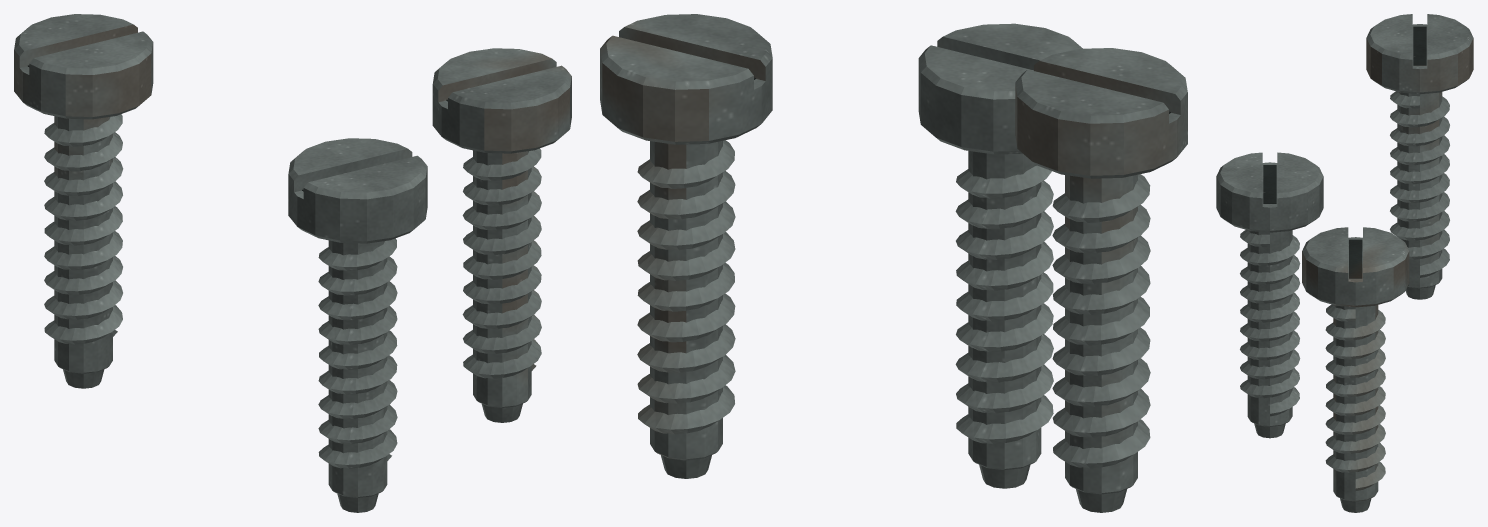
File: Screws.fbx
3 views of the same model, side by side, from view 1: azimuth 30°, elevation 25°; view 2: azimuth 150°, elevation 25°; view 3: azimuth 270°, elevation 25° (orthographic). The views are drawn at different scales.
Visible parts, largest first — view 1: Screws_08_Slotted screw head, Screws_13_Slotted screw head, Screws_03_Slotted screw head, Screws_12_Nine-turn helical thread, Screws_07_Nine-turn helical thread, Screws_02_Nine-turn helical thread, Screws_05_Screw core, Screws_00_Screw core, Screws_10_Screw core; view 2: Screws_13_Slotted screw head, Screws_03_Slotted screw head, Screws_12_Nine-turn helical thread, Screws_02_Nine-turn helical thread, Screws_07_Nine-turn helical thread, Screws_08_Slotted screw head, Screws_00_Screw core, Screws_10_Screw core, Screws_05_Screw core, Screws_06_Blunt screw tip, Screws_11_Blunt screw tip, Screws_01_Blunt screw tip; view 3: Screws_12_Nine-turn helical thread, Screws_07_Nine-turn helical thread, Screws_03_Slotted screw head, Screws_08_Slotted screw head, Screws_13_Slotted screw head, Screws_02_Nine-turn helical thread, Screws_10_Screw core, Screws_05_Screw core, Screws_00_Screw core, Screws_04_Dark bottom of slot, Screws_14_Dark bottom of slot, Screws_09_Dark bottom of slot (+3 smaller).
Part boxes in pixels (x1,y1,x2,y2): Screws_08_Slotted screw head: (288, 138, 427, 243); Screws_13_Slotted screw head: (432, 48, 571, 153); Screws_03_Slotted screw head: (14, 14, 153, 119); Screws_12_Nine-turn helical thread: (462, 148, 541, 378); Screws_07_Nine-turn helical thread: (318, 238, 397, 468); Screws_02_Nine-turn helical thread: (44, 114, 123, 344); Screws_05_Screw core: (328, 240, 387, 497); Screws_00_Screw core: (54, 116, 112, 373); Screws_10_Screw core: (473, 150, 531, 407); Screws_13_Slotted screw head: (600, 14, 772, 144); Screws_03_Slotted screw head: (1015, 48, 1187, 178); Screws_12_Nine-turn helical thread: (637, 140, 735, 434); Screws_02_Nine-turn helical thread: (1052, 174, 1150, 468); Screws_07_Nine-turn helical thread: (955, 165, 1053, 444); Screws_08_Slotted screw head: (918, 23, 1082, 154); Screws_00_Screw core: (1065, 174, 1137, 494); Screws_10_Screw core: (650, 140, 722, 460); Screws_05_Screw core: (968, 151, 1041, 470); Screws_06_Blunt screw tip: (979, 464, 1030, 488); Screws_11_Blunt screw tip: (661, 455, 711, 478); Screws_01_Blunt screw tip: (1076, 489, 1126, 512); Screws_12_Nine-turn helical thread: (1325, 304, 1385, 490); Screws_07_Nine-turn helical thread: (1240, 230, 1300, 416); Screws_03_Slotted screw head: (1366, 14, 1473, 94); Screws_08_Slotted screw head: (1216, 152, 1323, 232); Screws_13_Slotted screw head: (1302, 227, 1409, 307); Screws_02_Nine-turn helical thread: (1390, 91, 1449, 277); Screws_10_Screw core: (1333, 305, 1378, 501); Screws_05_Screw core: (1247, 230, 1292, 426); Screws_00_Screw core: (1397, 92, 1442, 288); Screws_04_Dark bottom of slot: (1413, 26, 1426, 65); Screws_14_Dark bottom of slot: (1349, 239, 1362, 278); Screws_09_Dark bottom of slot: (1263, 165, 1276, 203).
Bounding box in the file's own units: 8.2 × 6.85 × 4.8.
